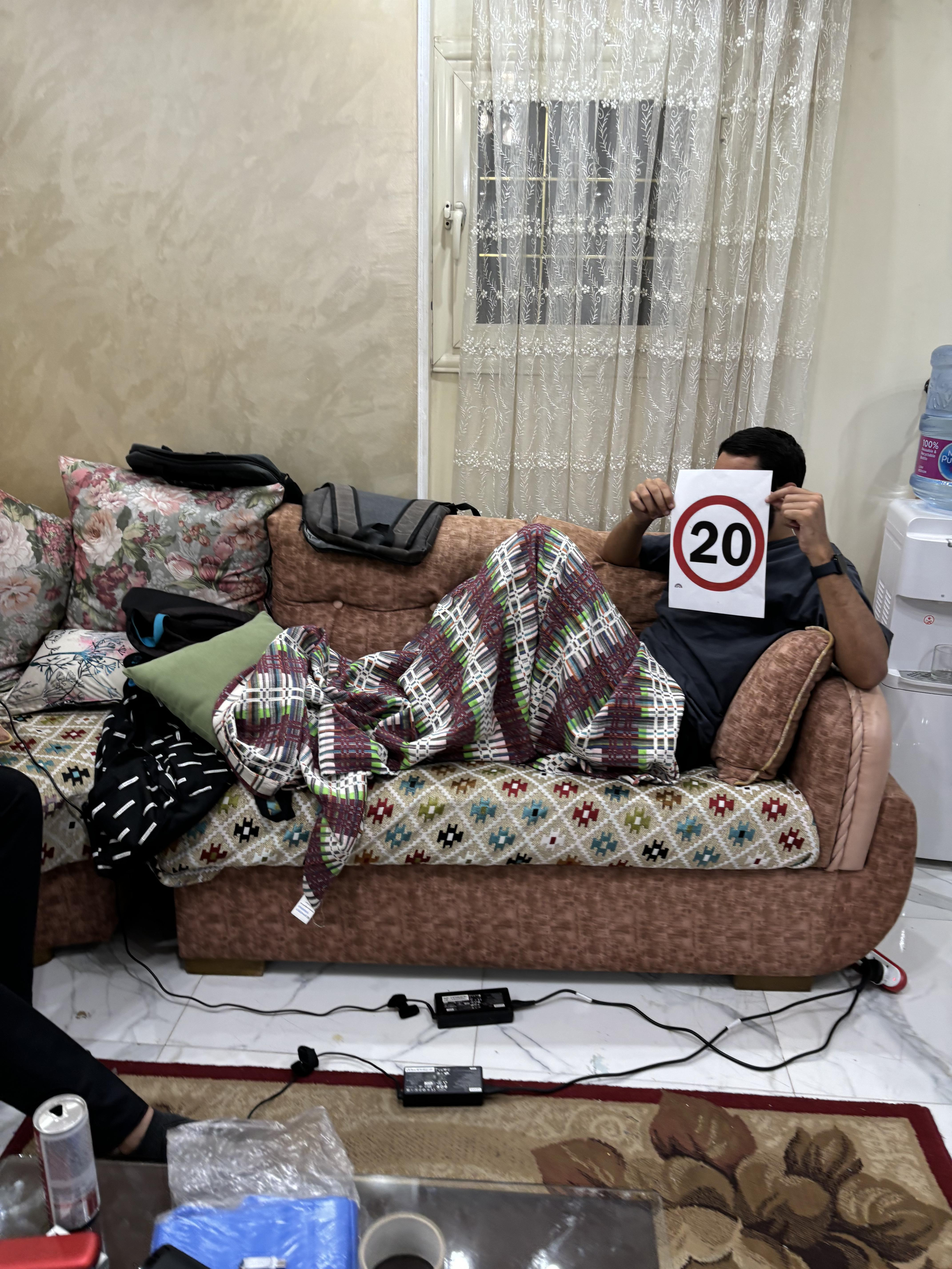20-Speed: (669, 489, 774, 598)
